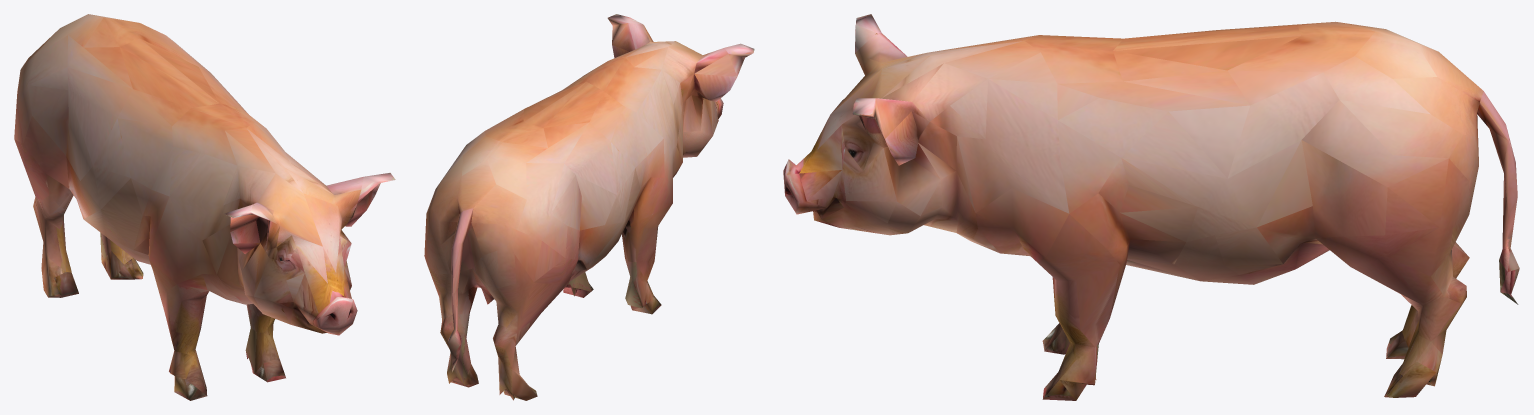
File: cerdo.fbx
3 renders of one model, left to right at view 1: azimuth 30°, elevation 25°; view 2: azimuth 150°, elevation 25°; view 3: azimuth 270°, elevation 25°, orthographic. The views are drawn at different scales.
Visible parts, largest first — view 1: Mesh_0; view 2: Mesh_0; view 3: Mesh_0.
Boxes of the visible parts, bbox=[...] form: Mesh_0: bbox=[14, 14, 395, 400]; Mesh_0: bbox=[424, 14, 754, 400]; Mesh_0: bbox=[783, 14, 1519, 400].
Bounding box in the file's own units: 36.06 × 56.53 × 111.
